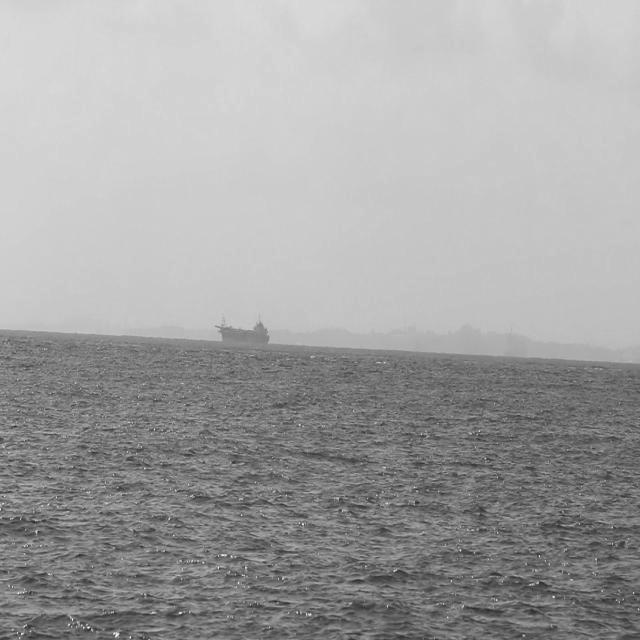ship: (213, 310, 270, 348)
